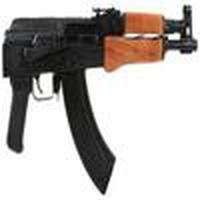gun: (1, 12, 200, 185)
